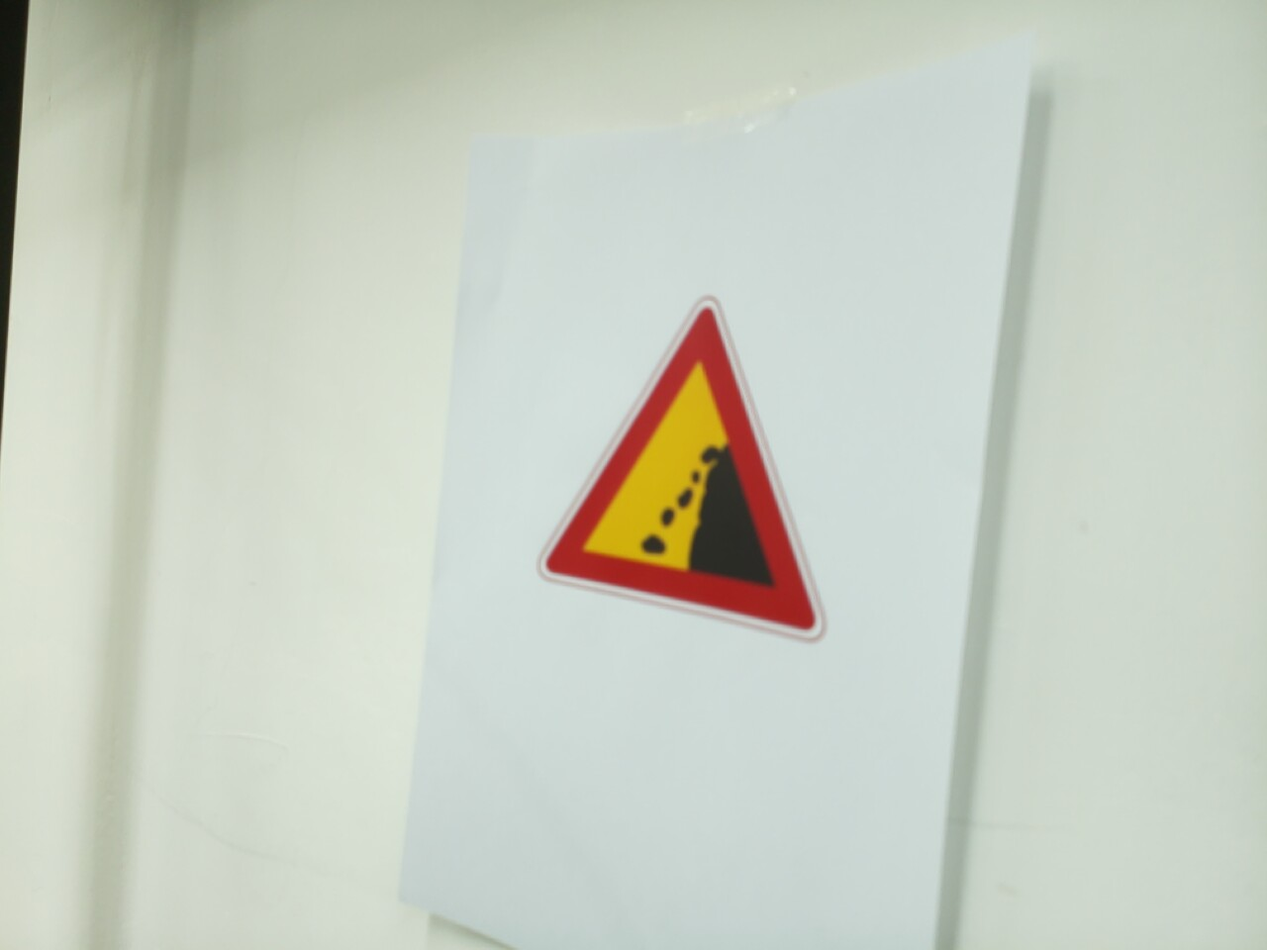falling_rocks: (537, 298, 825, 640)
